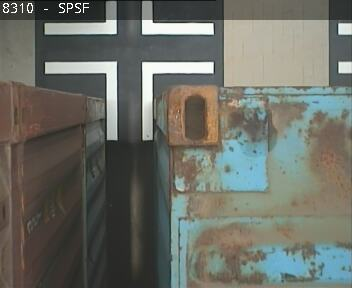groundmarker_1: (45, 60, 212, 140), (44, 1, 213, 36)
